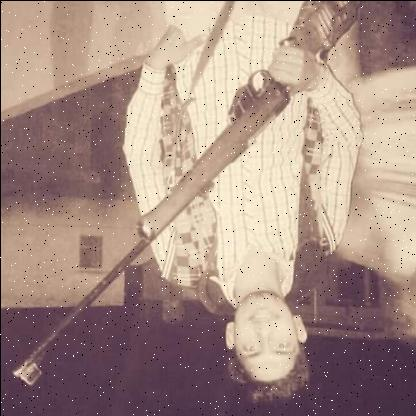rifle: (7, 0, 362, 388)
